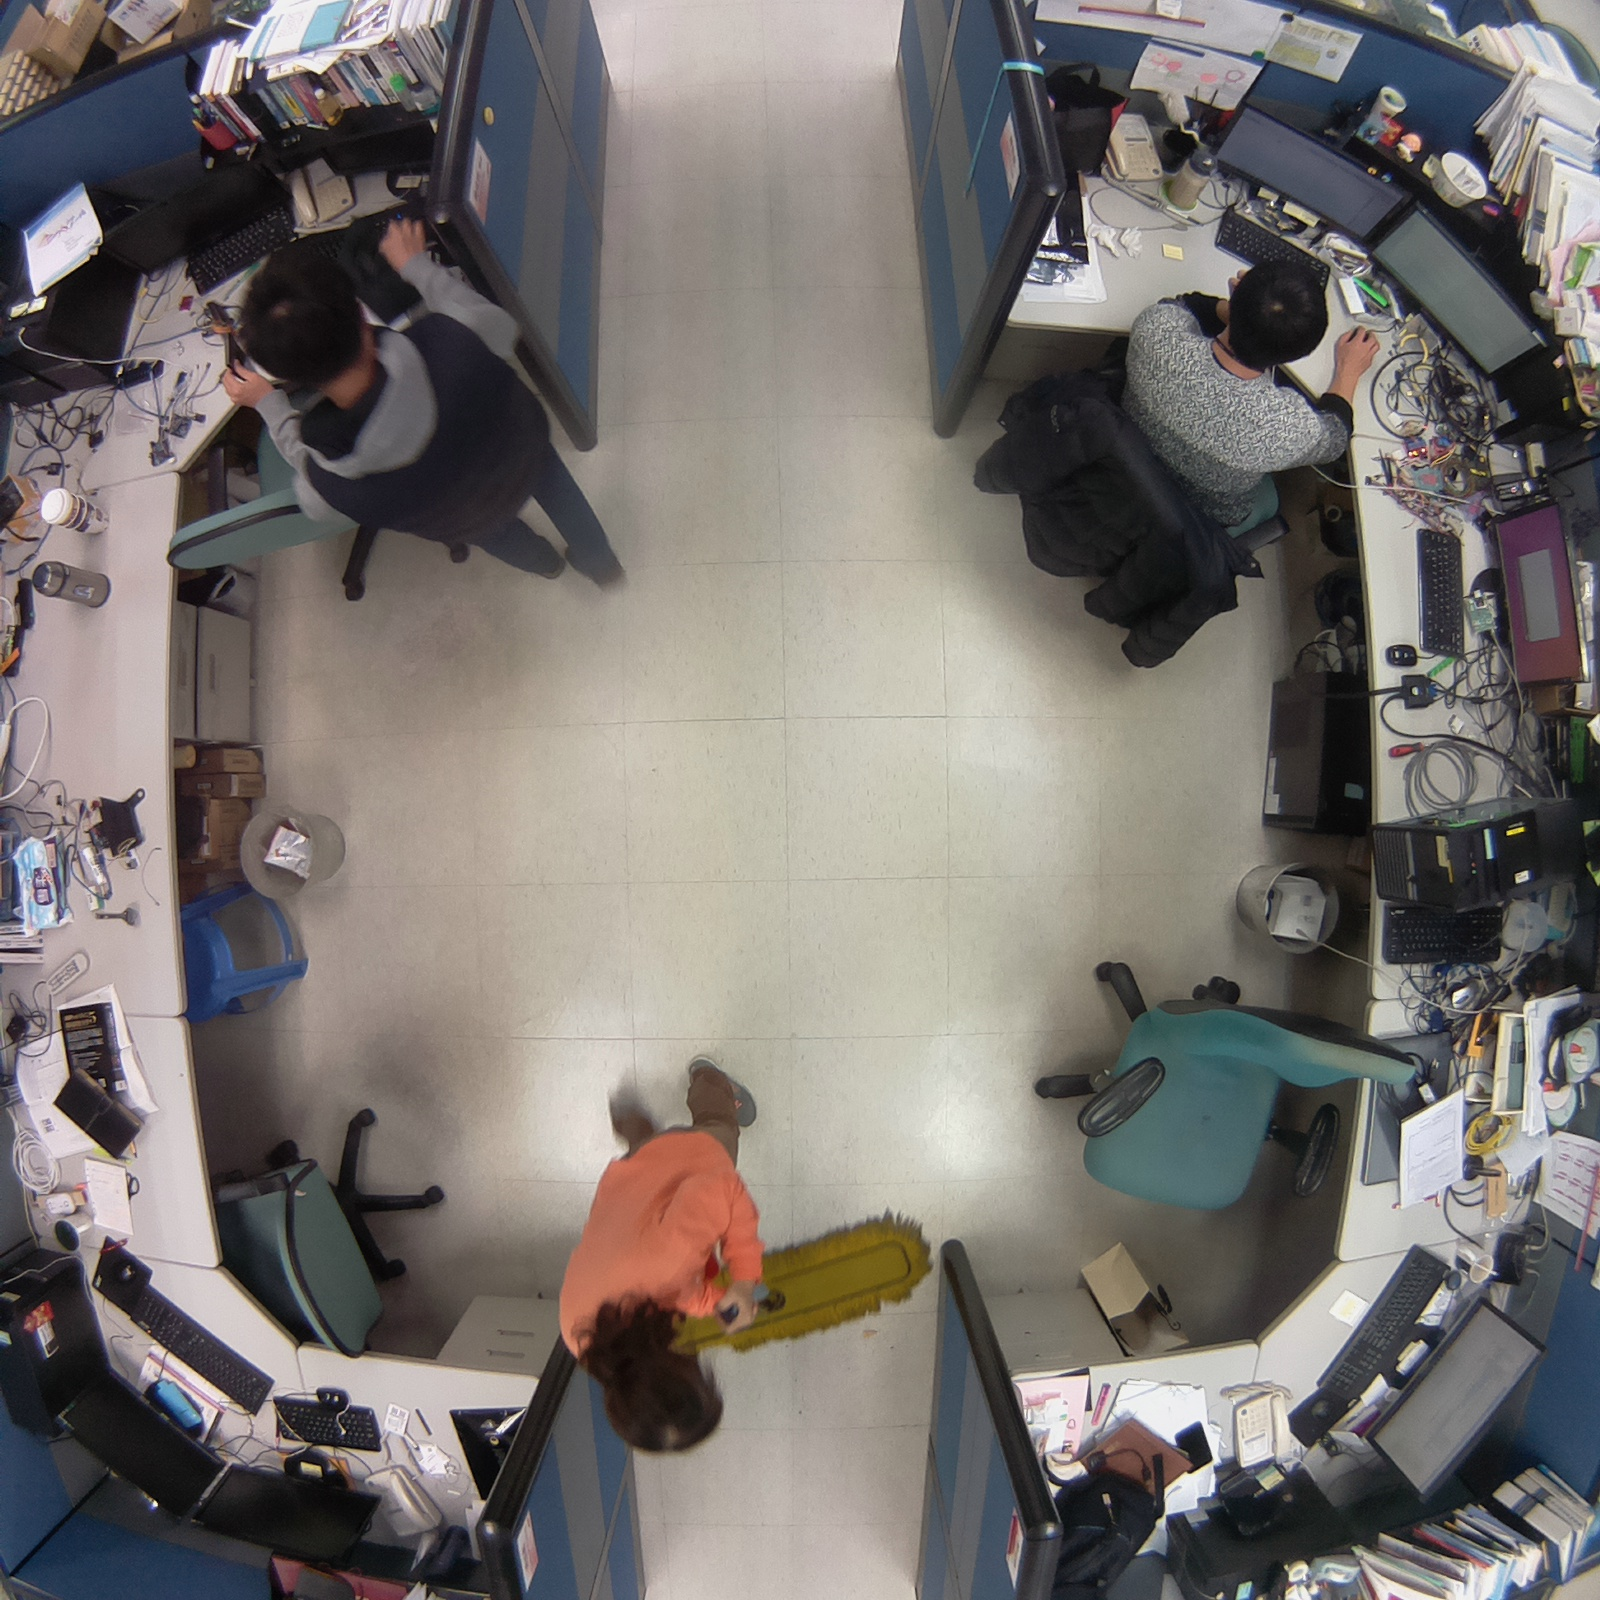chair: (1019, 934, 1432, 1227), (204, 1075, 486, 1368)
head: (583, 1295, 736, 1465), (227, 246, 378, 404), (1219, 255, 1336, 372)
sitting: (955, 244, 1384, 699)
standing: (550, 1040, 788, 1466)
walking: (216, 209, 639, 600)
